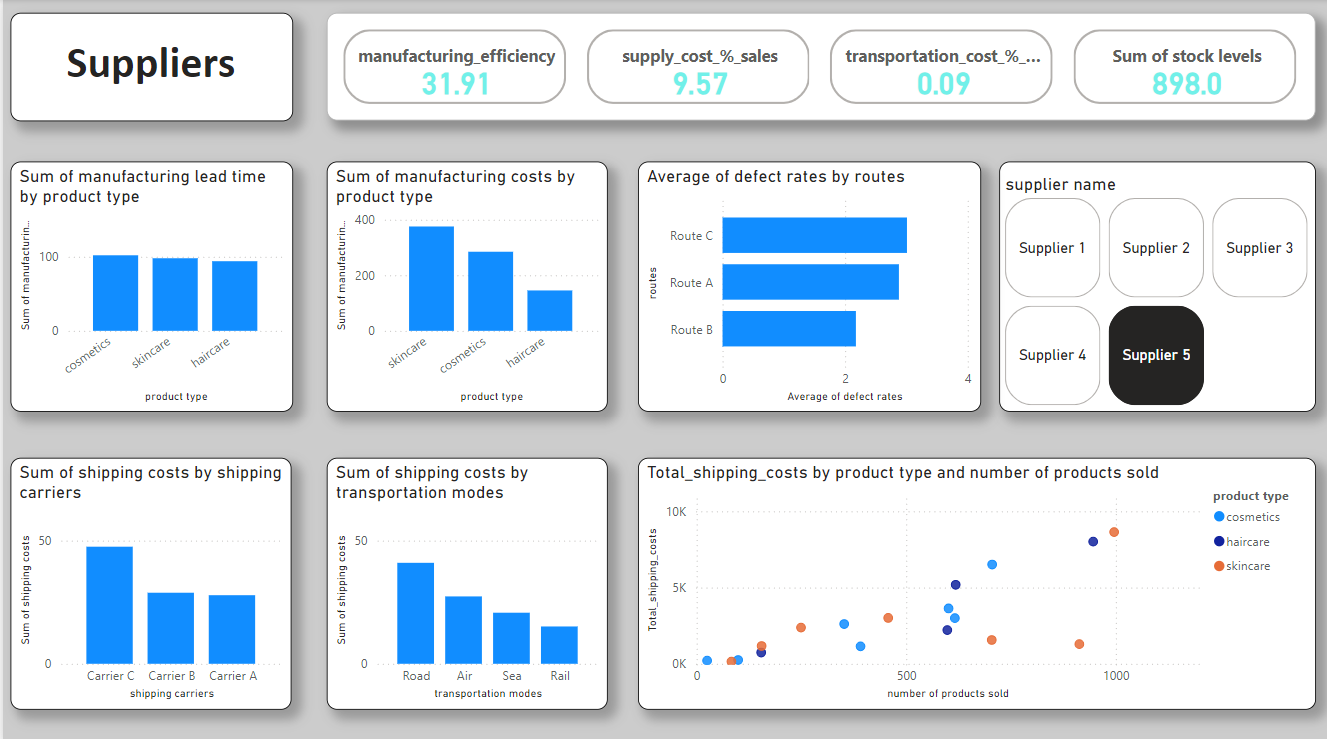

The dashboard page shown, as its layout file describes it:
{"tool":"powerbi","page":{"name":"Shipping & Transportation","canvas":[1280,720],"ordinal":1},"visuals":[{"type":"advancedSlicerVisual","fields":{"Values":["supply_chain_data.supplier name"]},"box":[961.4,157.1,305.7,241.4],"z":0},{"type":"columnChart","fields":{"Category":["supply_chain_data.product type"],"Y":["Sum(supply_chain_data.manufacturing costs)"]},"box":[312.9,157.1,271.4,241.4],"z":1000},{"type":"scatterChart","fields":{"Y":["key_measures (3).Total_shipping_costs"],"Series":["supply_chain_data.product type"],"X":["supply_chain_data.number of products sold"]},"box":[612.9,442.9,654.3,242.9],"z":2000},{"type":"columnChart","fields":{"Y":["Sum(supply_chain_data.shipping costs)"],"Category":["supply_chain_data.shipping carriers"]},"box":[7.1,442.9,271.4,242.9],"z":3000},{"type":"columnChart","fields":{"Y":["Sum(supply_chain_data.shipping costs)"],"Category":["supply_chain_data.transportation modes"]},"box":[312.9,442.9,271.4,242.9],"z":4000},{"type":"columnChart","fields":{"Y":["Sum(supply_chain_data.manufacturing lead time)"],"Category":["supply_chain_data.product type"]},"box":[7.1,157.1,272.9,241.4],"z":5000},{"type":"barChart","fields":{"Category":["supply_chain_data.routes"],"Y":["Avg(supply_chain_data.defect rates)"]},"box":[612.9,157.1,331.4,241.4],"z":6000},{"type":"cardVisual","fields":{"Data":["key_measures (3).manufacturing_efficiency","key_measures (3).supply_cost_%_sales","key_measures (3).transportation_cost_%_sales","Sum(supply_chain_data.stock levels)"]},"box":[312.9,12.9,954.3,104.3],"z":7000},{"type":"textbox","box":[7.2,13.3,272.7,105],"z":8000}]}

Visuals, with their boxes in screenshot pixels (x1, y1, x2, y2), scaled from the page's 1280x720 canvas onto the 1327x739 screenshot:
advancedSlicerVisual - supply_chain_data.supplier name: [997,161,1314,409]
columnChart - supply_chain_data.product type x Sum(supply_chain_data.manufacturing costs): [324,161,606,409]
scatterChart - key_measures (3).Total_shipping_costs x supply_chain_data.product type: [635,455,1314,704]
columnChart - Sum(supply_chain_data.shipping costs) x supply_chain_data.shipping carriers: [7,455,289,704]
columnChart - Sum(supply_chain_data.shipping costs) x supply_chain_data.transportation modes: [324,455,606,704]
columnChart - Sum(supply_chain_data.manufacturing lead time) x supply_chain_data.product type: [7,161,290,409]
barChart - supply_chain_data.routes x Avg(supply_chain_data.defect rates): [635,161,979,409]
cardVisual - key_measures (3).manufacturing_efficiency x key_measures (3).supply_cost_%_sales: [324,13,1314,120]
textbox: [7,14,290,121]
